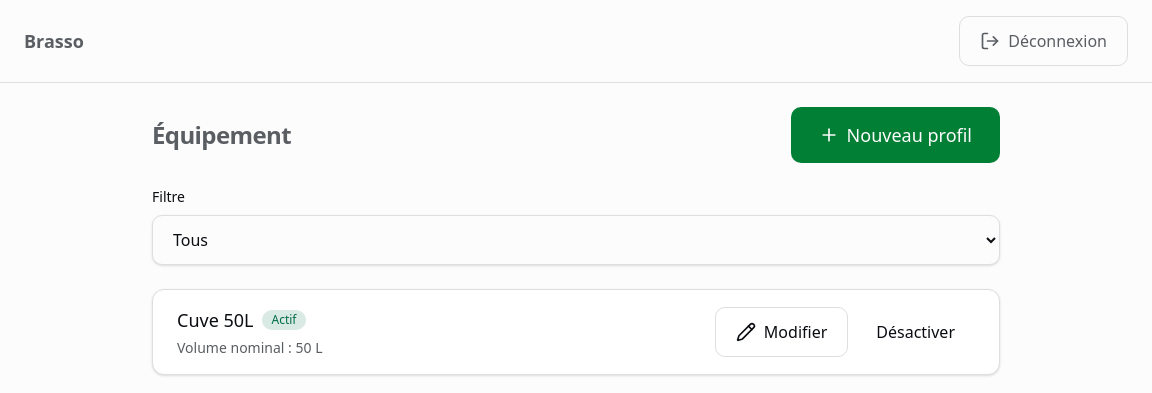
Scenario: désactivation d'un profil › POST /deactivate puis le profil passe inactif
Expected: the text "Cuve 50L" is shown, [177,306,254,334]
Click the button "Désactiver" at (916, 332), box [856,308,975,356]
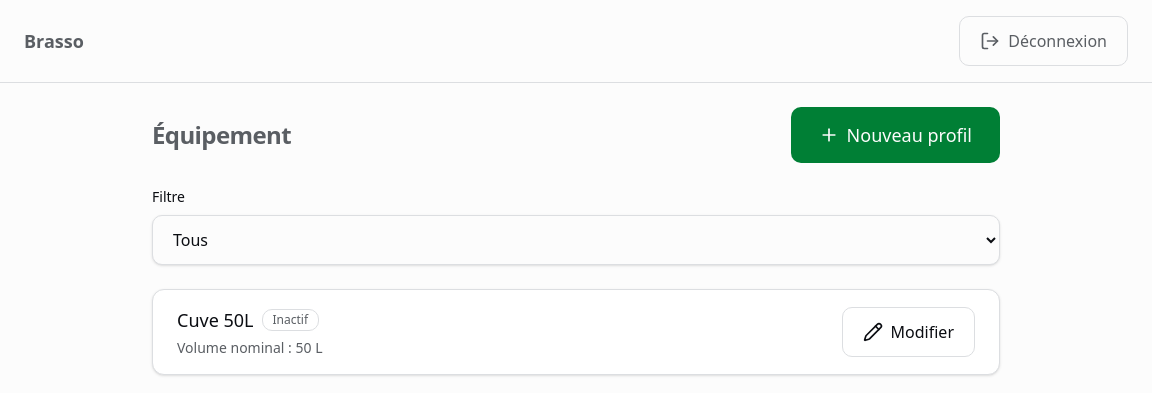
Now the text "Inactif" is shown, box [262,309,319,331]
